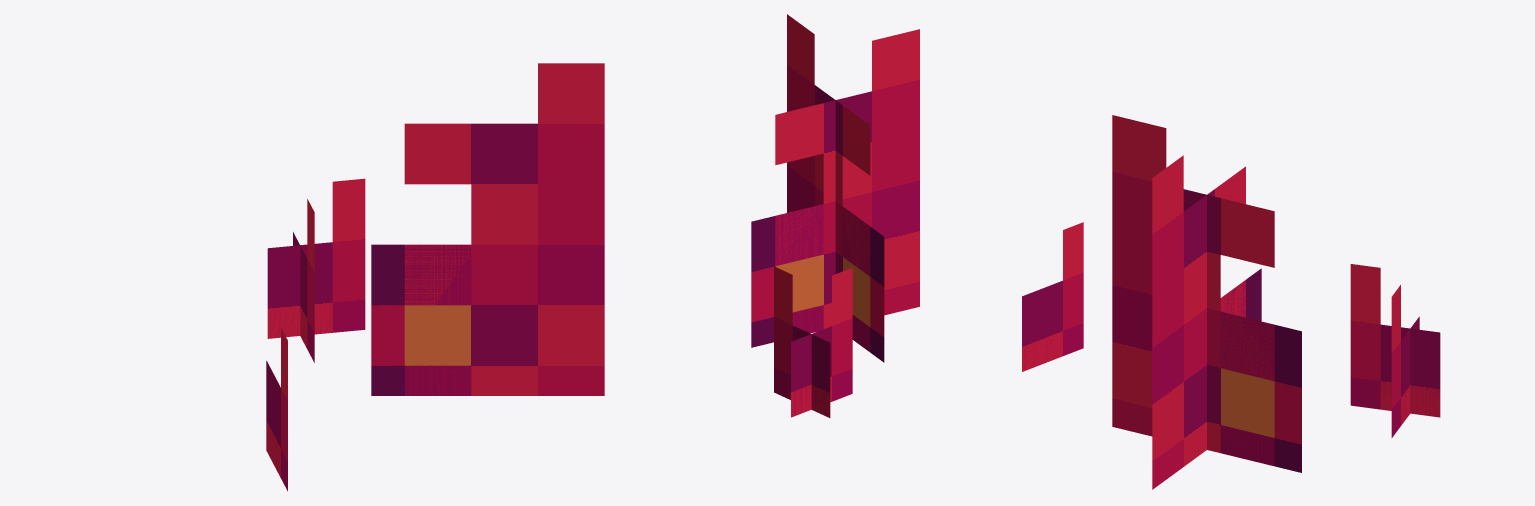
The model's file is crimson_crest_stage2.obj.
3 renders of one model, left to right at view 1: azimuth 30°, elevation 25°; view 2: azimuth 150°, elevation 25°; view 3: azimuth 270°, elevation 25°, orthographic. The views are drawn at different scales.
Parts seen in each view (by area): view 1: cube_1, cube_5, cube_10, cube_6; view 2: cube_2, cube_1, cube_10, cube_6, cube_5; view 3: cube_2, cube_1, cube_6, cube_5.
Part boxes in pixels (x1,y1,x2,y2): cube_1: (371, 63, 604, 395); cube_5: (267, 178, 365, 338); cube_10: (266, 328, 287, 491); cube_6: (293, 199, 314, 362); cube_2: (751, 29, 919, 347); cube_1: (787, 14, 884, 362); cube_10: (1022, 222, 1083, 371); cube_6: (791, 267, 852, 417); cube_5: (774, 266, 830, 417); cube_2: (1112, 115, 1301, 472); cube_1: (1152, 155, 1261, 489); cube_6: (1350, 264, 1440, 417); cube_5: (1391, 285, 1419, 437).
Bounding box in the file's own units: 0.9195 × 0.6875 × 0.8163.
